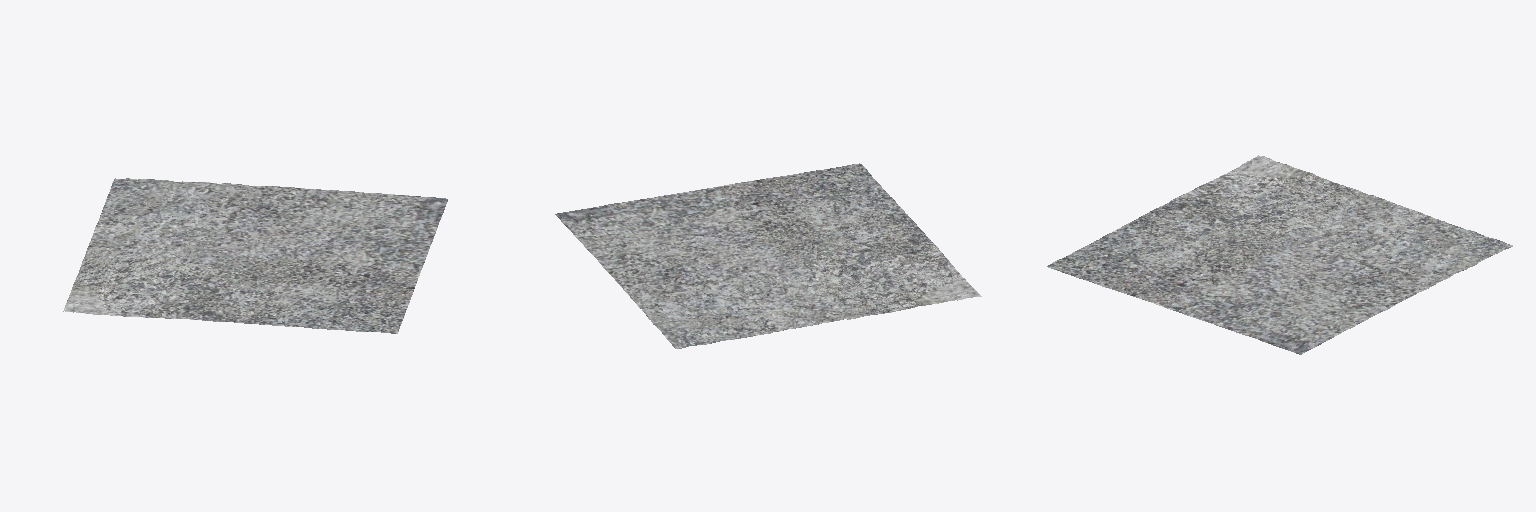
3 renders of one model, left to right at view 1: azimuth 30°, elevation 25°; view 2: azimuth 150°, elevation 25°; view 3: azimuth 270°, elevation 25°, orthographic.
Parts seen in each view (by area): view 1: texture_0; view 2: texture_0; view 3: texture_0.
Part boxes in pixels (x1,y1,x2,y2): texture_0: (63, 178, 447, 333); texture_0: (555, 163, 981, 348); texture_0: (1047, 155, 1512, 354).
Size of the model in its own units: 0.5078 by 0.0066 by 0.5062.
Materials: 1 (1 with a texture image).